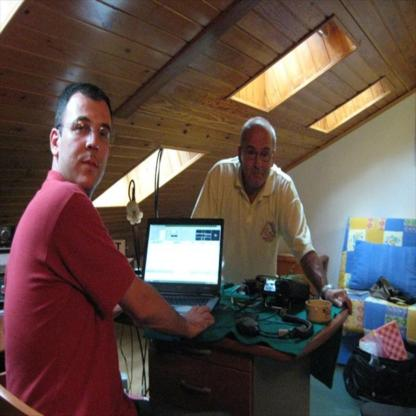board: (134, 216, 224, 314)
